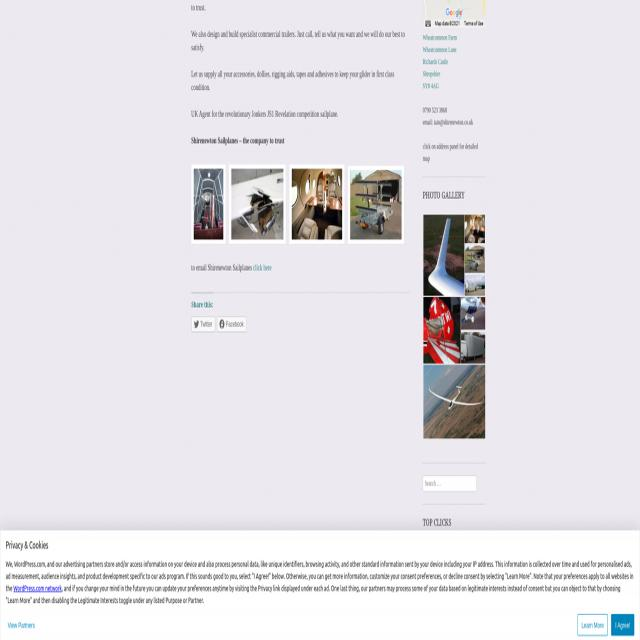button: (423, 365, 485, 439), (229, 164, 286, 243), (348, 165, 404, 244), (290, 164, 344, 243), (424, 215, 464, 296), (191, 164, 225, 243), (423, 297, 461, 365), (461, 331, 485, 365), (461, 297, 485, 329), (465, 214, 485, 242), (465, 245, 485, 272), (217, 316, 247, 332), (465, 274, 485, 298), (191, 316, 215, 332), (626, 624, 634, 634)
field: (423, 476, 477, 492)
